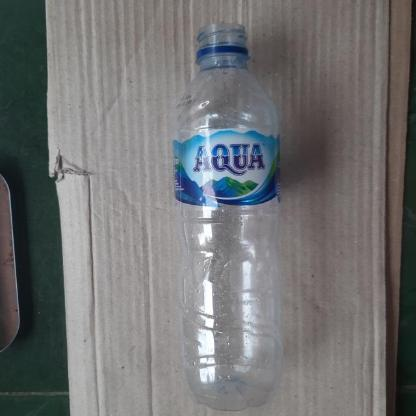Plastic Bottle: (169, 22, 287, 408)
